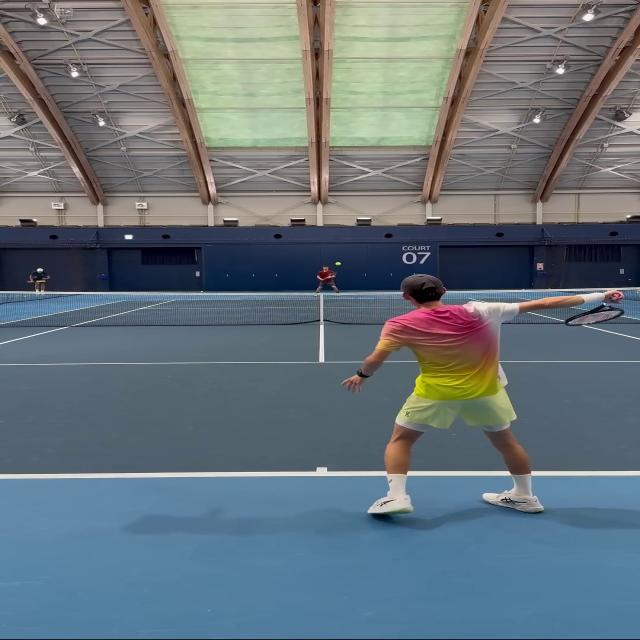tennis_ball: (337, 263, 340, 265)
